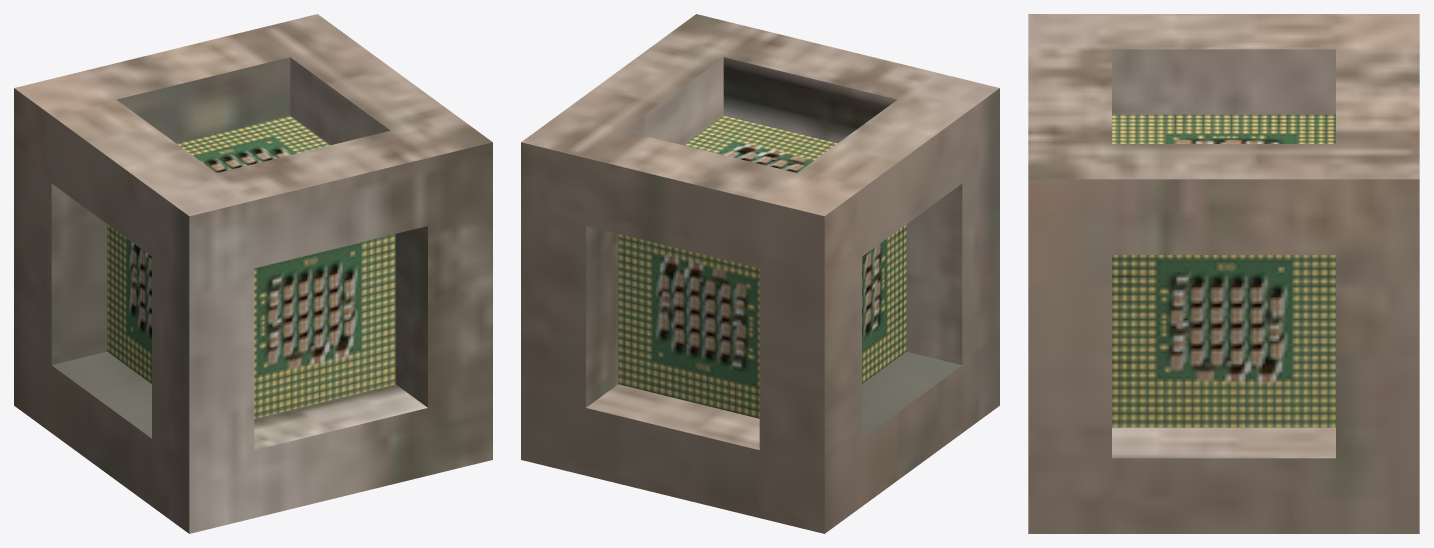
The model's file is cube_frame.fbx.
The picture shows the model from 3 angles, left to right: view 1: azimuth 30°, elevation 25°; view 2: azimuth 150°, elevation 25°; view 3: azimuth 270°, elevation 25°; orthographic projection. The views are drawn at different scales.
Parts seen in each view (by area): view 1: cube_frame; view 2: cube_frame; view 3: cube_frame.
Boxes of the visible parts, <box> form: cube_frame: <box>14,14,492,533</box>; cube_frame: <box>521,14,999,533</box>; cube_frame: <box>1028,14,1419,533</box>.
Size of the model in its own units: 124 by 124 by 124.
